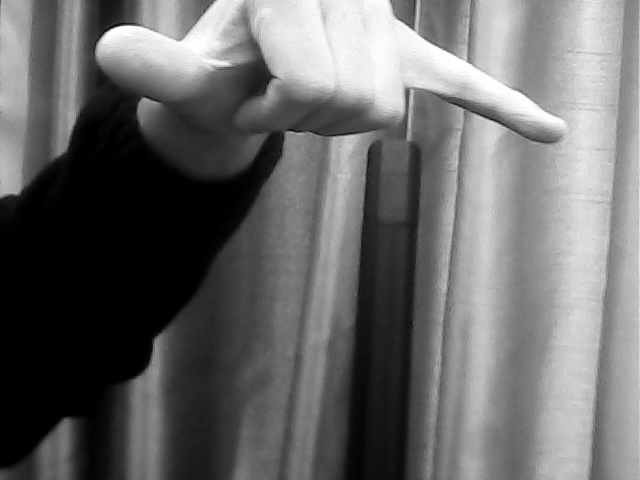aloha: (100, 1, 567, 141)
